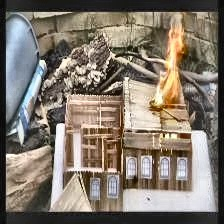fire: (145, 20, 197, 118)
